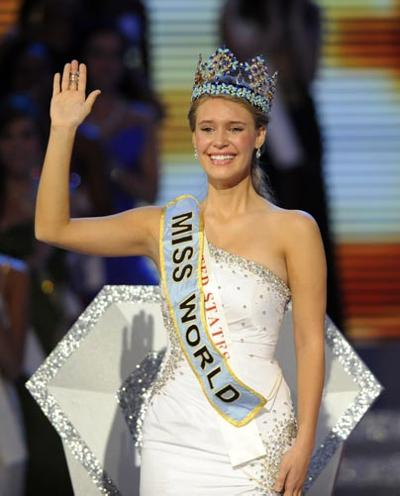person: (35, 48, 328, 493)
